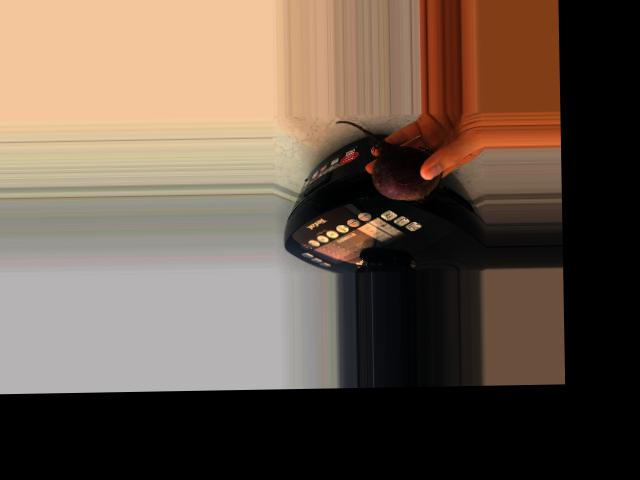beet: (335, 119, 442, 205)
